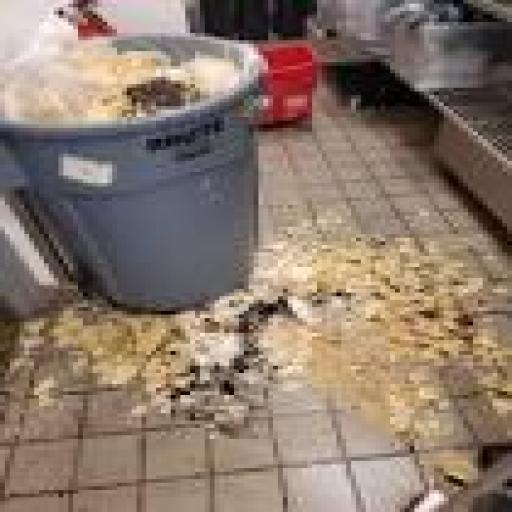poubelle_pleine: (0, 18, 293, 314)
